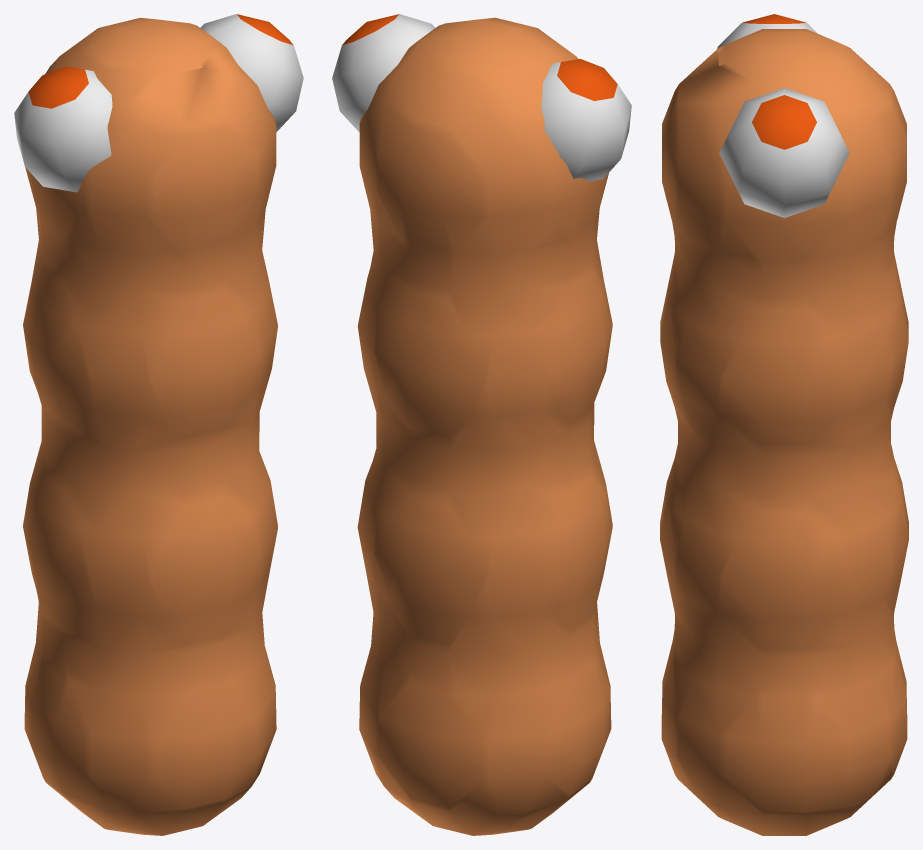
Rendered from larvae.glb.
3 views of the same model, side by side, from view 1: azimuth 30°, elevation 25°; view 2: azimuth 150°, elevation 25°; view 3: azimuth 270°, elevation 25° (orthographic).
Parts seen in each view (by area): view 1: Larvae, Eye.001, Eye; view 2: Larvae, Eye.001, Eye; view 3: Larvae, Eye, Eye.001.
Boxes of the visible parts, x1,y1,x2,y2 form: Larvae: (23, 17, 277, 835); Eye.001: (14, 66, 112, 192); Eye: (200, 14, 303, 132); Larvae: (357, 17, 612, 835); Eye.001: (541, 59, 631, 181); Eye: (332, 14, 434, 132); Larvae: (660, 29, 908, 835); Eye: (719, 88, 849, 217); Eye.001: (717, 14, 817, 48).
Bounding box in the file's own units: 2.91 × 7.85 × 2.27.
